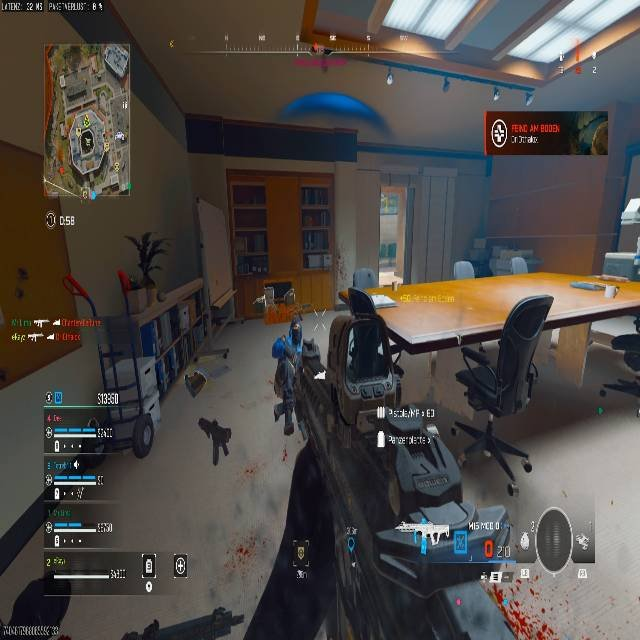player: (268, 322, 323, 440)
